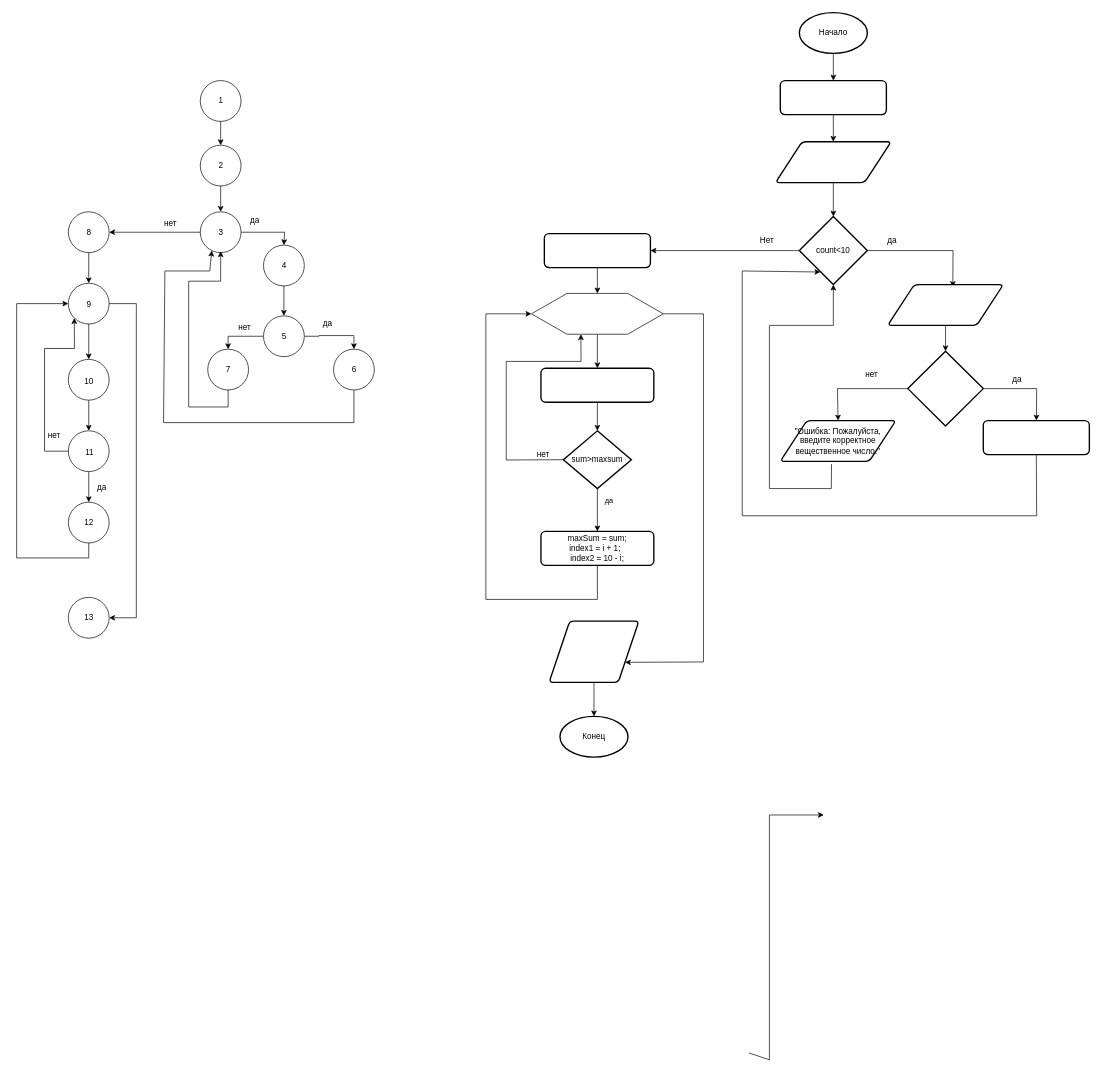
The diagram is 1102 pixels wide and 1077 high, and some of its shapes have lost their labels. The shapes that lost their labels are listed below. From the top down, each one's box as (x1, y1, x2, y2) in pixels, then its label:
(779, 80, 887, 115): double[] A = new double[10]; int count = 0
(775, 141, 891, 183): Вывод: "Введите 10 вещественных чисел"
(543, 233, 651, 268): double maxSum = 0; int index1 = -1; int index2 = -1;
(531, 293, 663, 334): int i = 0; i < 5; i++
(887, 284, 1004, 326): "Введите число {count + 1}" string input = Console.ReadLine();
(540, 367, 654, 403): double sum = A[i] + A[9 - i];
(907, 350, 984, 426): double.TryParse (input, out A[count])
(982, 420, 1090, 455): count++
(548, 620, 639, 683): вывод MaxSum вывод index1 вывод index 2
